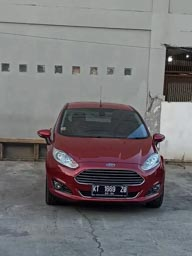plat: (91, 183, 131, 192)
